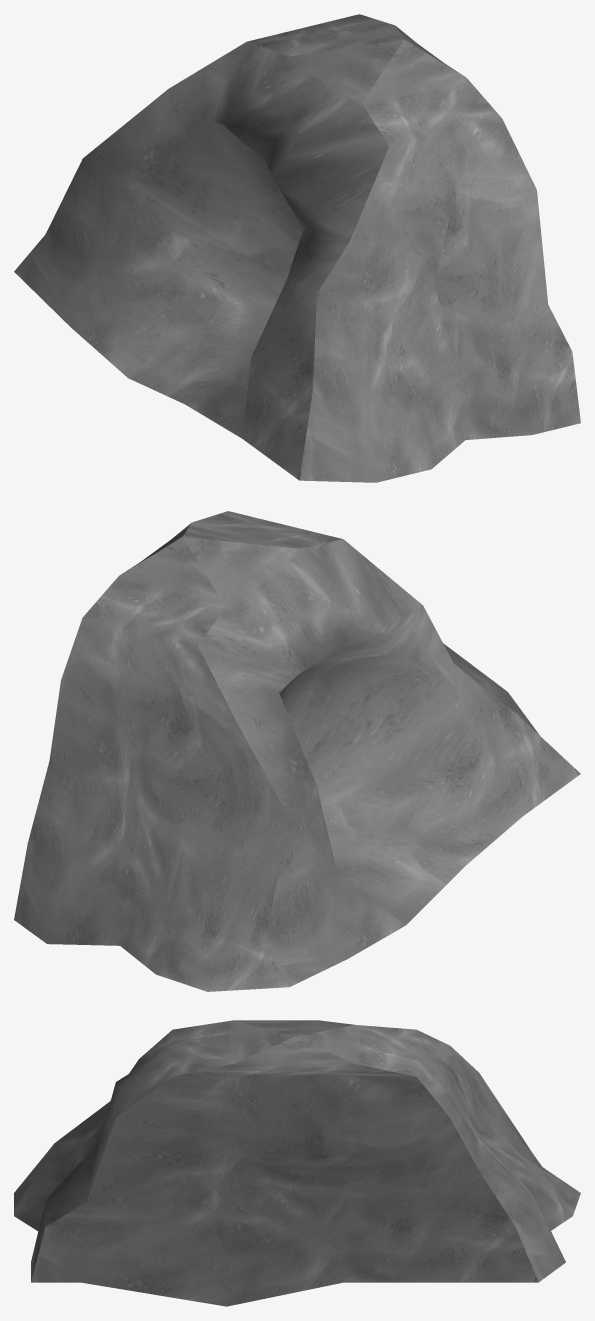
The model's file is cave.FBX.
3 views of the same model, one above another, from view 1: azimuth 30°, elevation 25°; view 2: azimuth 150°, elevation 25°; view 3: azimuth 270°, elevation 25° (orthographic). The views are drawn at different scales.
Parts seen in each view (by area): view 1: Pyramide001; view 2: Pyramide001; view 3: Pyramide001.
Boxes of the visible parts, <box> form: Pyramide001: <box>14,14,580,482</box>; Pyramide001: <box>14,511,580,991</box>; Pyramide001: <box>14,1020,580,1306</box>.
Size of the model in its own units: 0.0877 by 0.1815 by 0.0918.
